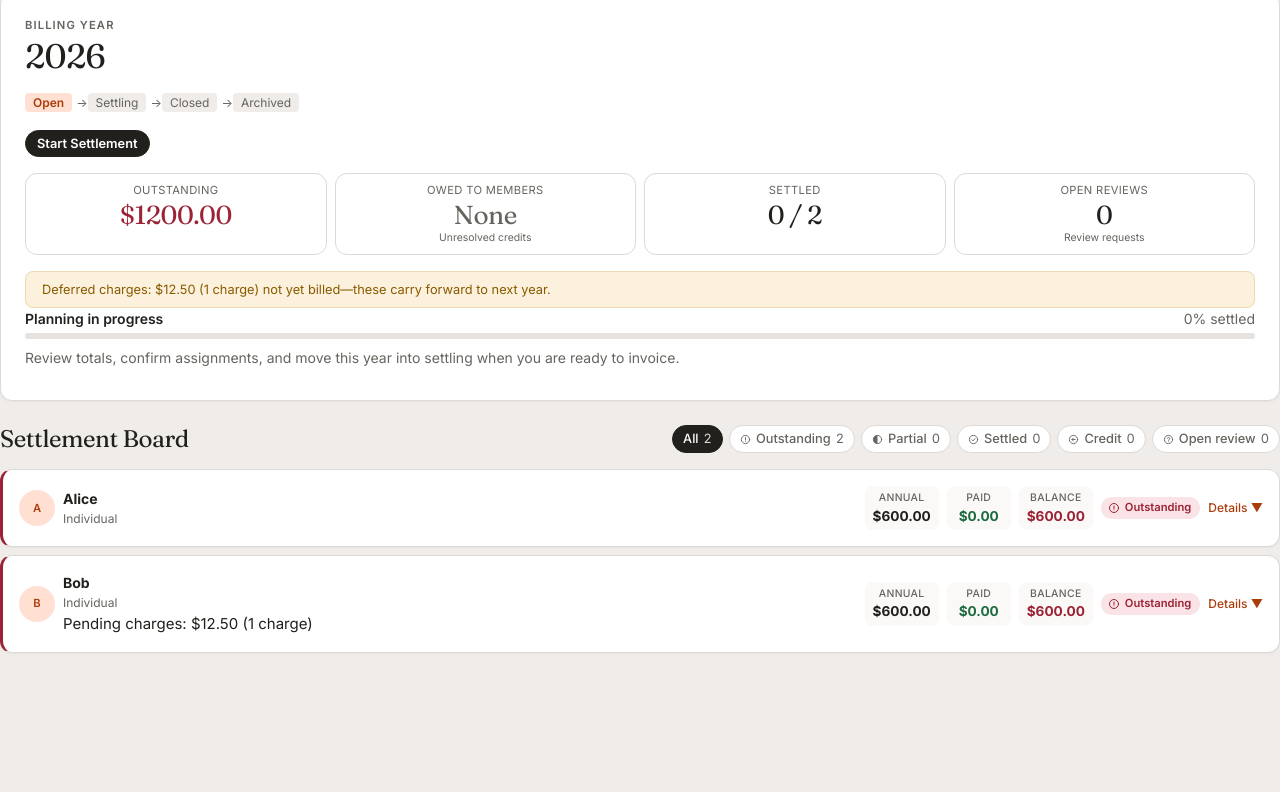
Test case: DashboardView › Bill Charges (Charge Notice) › reports a failed Charge Notice email instead of claiming it was sent
Click the text "Bob".
click(37, 604)  # box x1=3 y1=556 x2=1279 y2=652
(page scrolled)
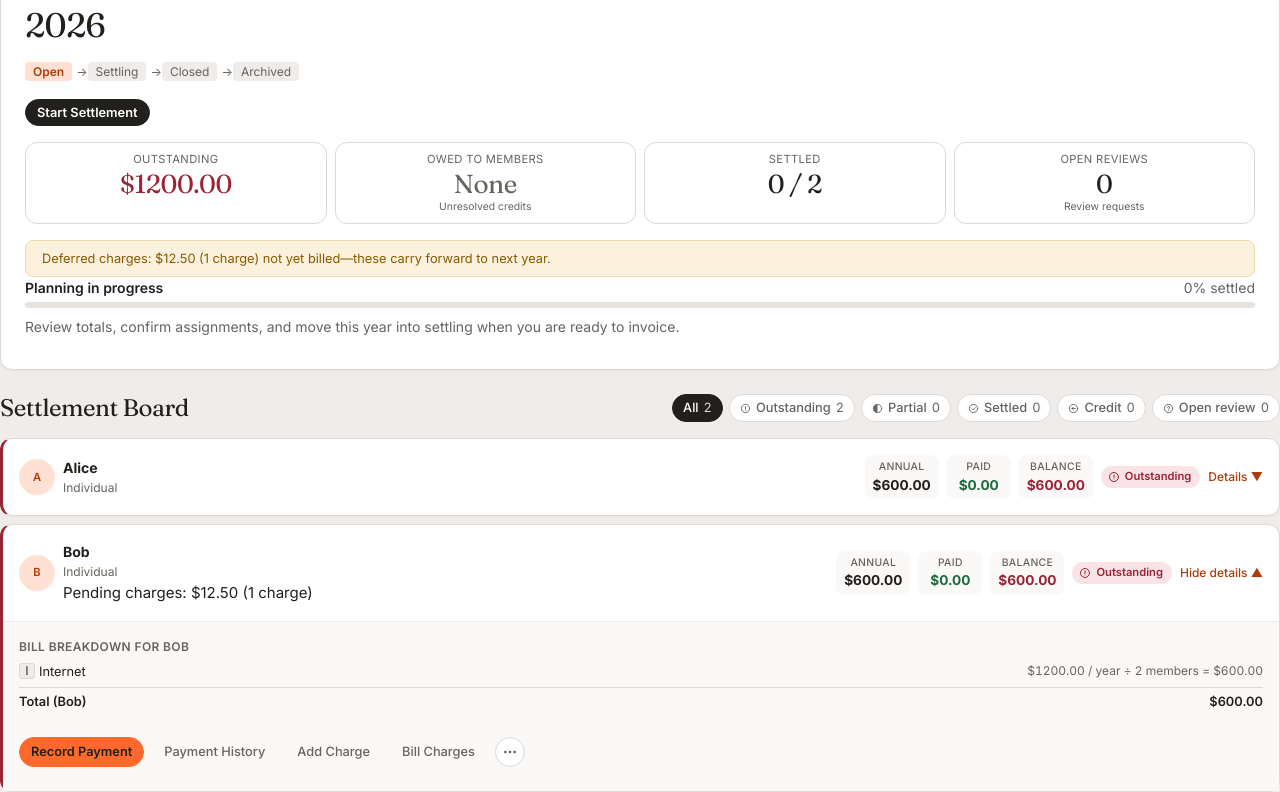
Click the button "Bill Charges".
click(438, 752)  # box x1=390 y1=737 x2=487 y2=767
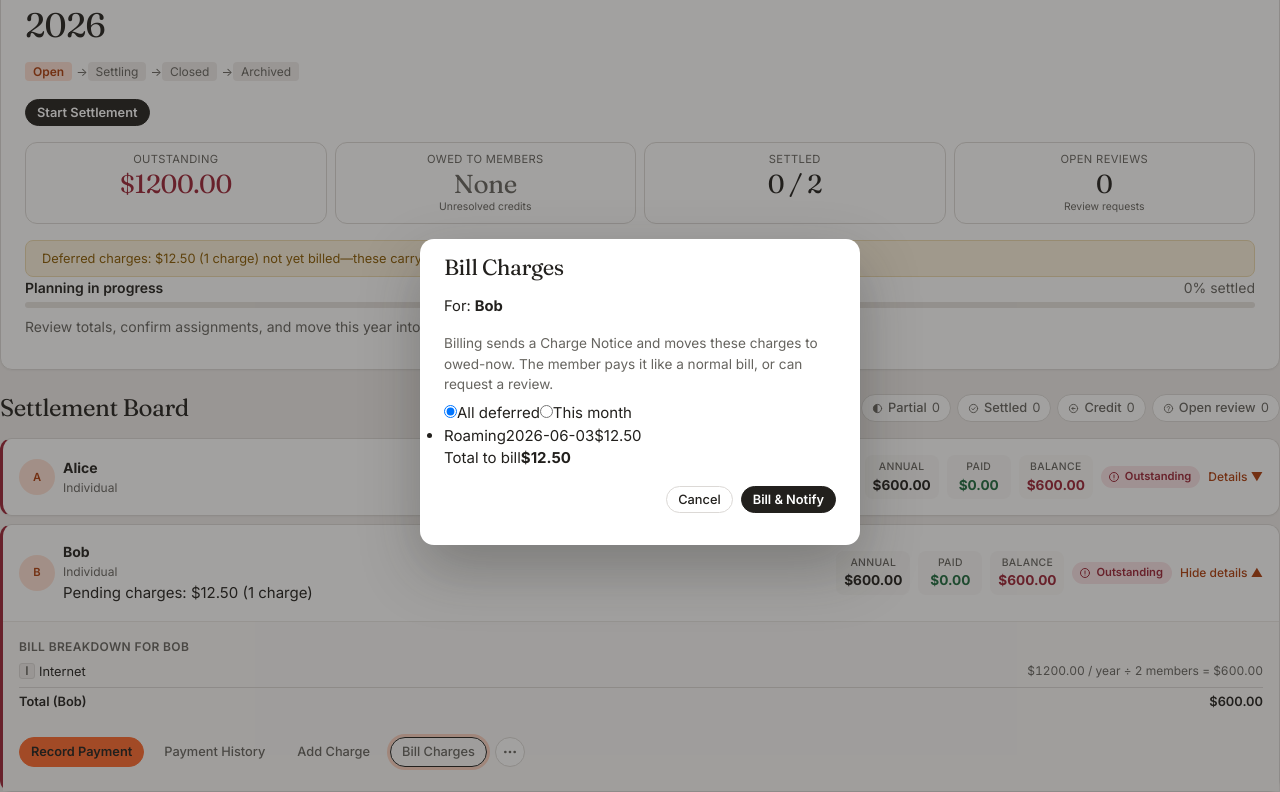
Click the button "Bill & Notify".
click(788, 499)  # box x1=741 y1=486 x2=836 y2=513
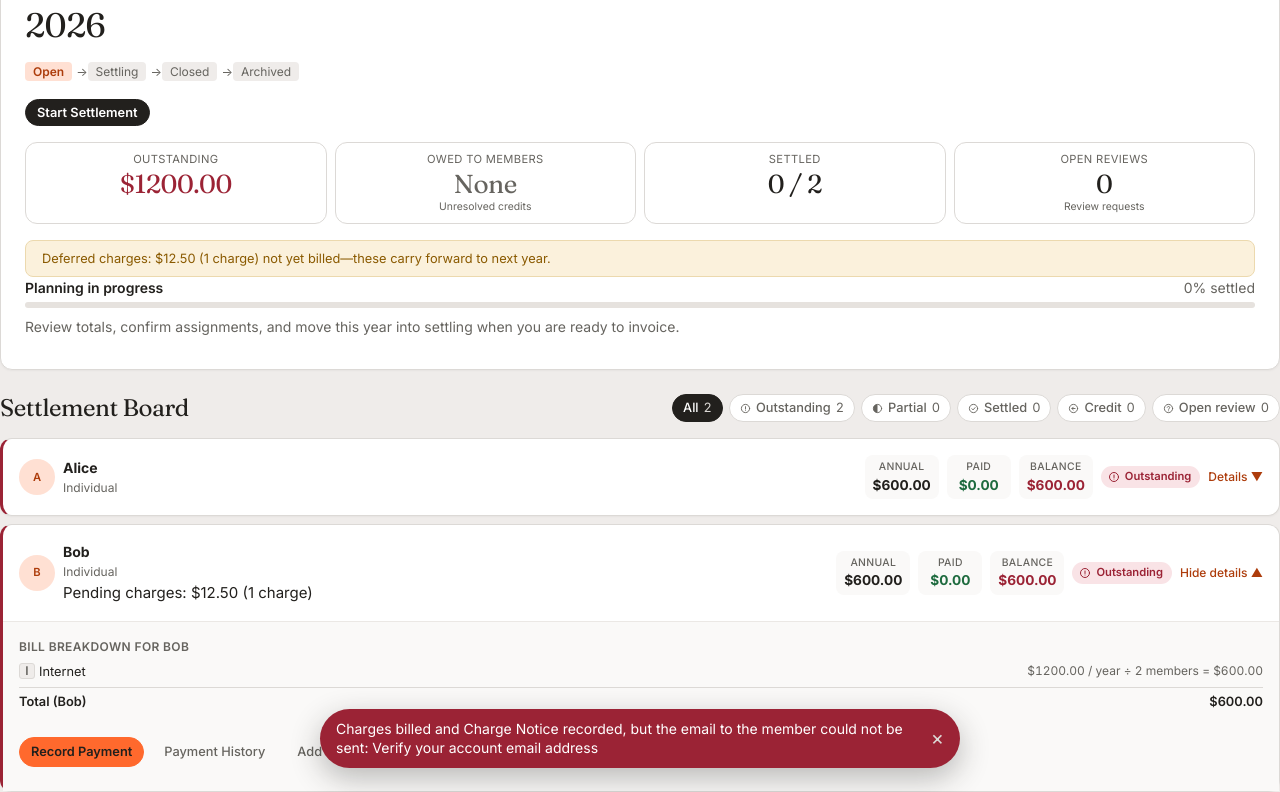
expect the text "Charge Notice recorded, but the email to the member could not be sent: Verify your account email address" is shown: met, box x1=336 y1=720 x2=903 y2=756
